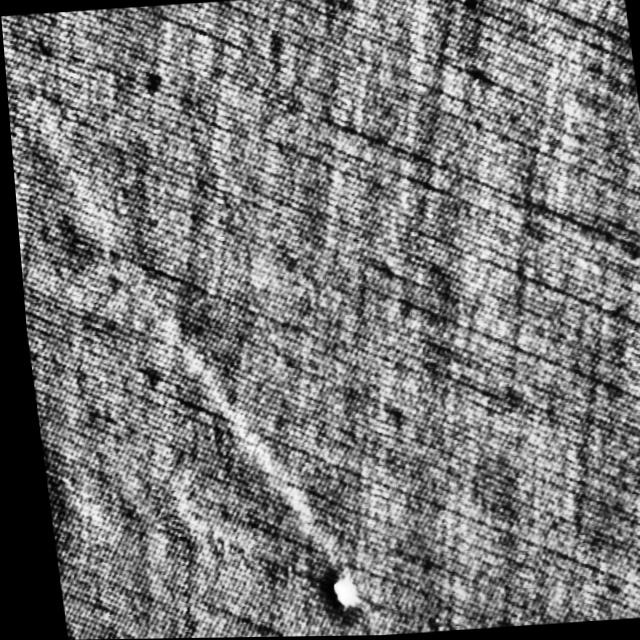Hole: (324, 569, 366, 619)
